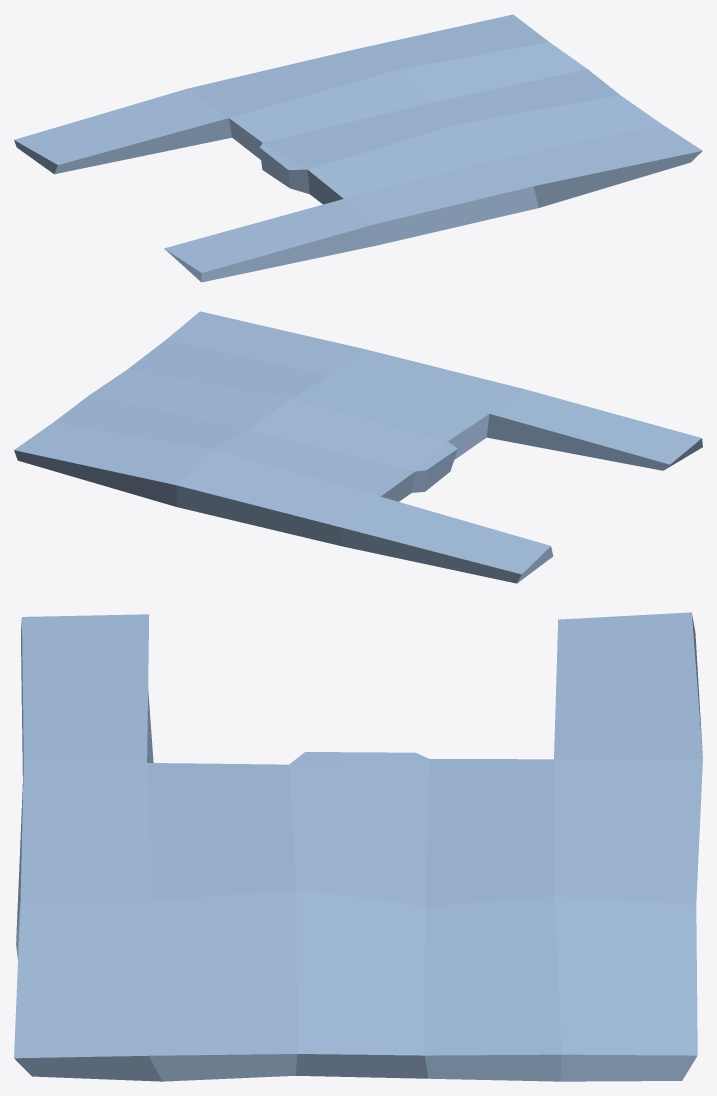
The model's file is PlasticBag.fbx.
The picture shows the model from 3 angles, top to bottom: view 1: azimuth 30°, elevation 25°; view 2: azimuth 150°, elevation 25°; view 3: azimuth 270°, elevation 25°; orthographic projection. The views are drawn at different scales.
Visible parts, largest first — view 1: Plastic bag; view 2: Plastic bag; view 3: Plastic bag.
Boxes of the visible parts, <box> form: Plastic bag: <box>14,14,702,282</box>; Plastic bag: <box>14,311,702,583</box>; Plastic bag: <box>14,612,702,1081</box>.
Size of the model in its own units: 315 by 17.47 by 204.
